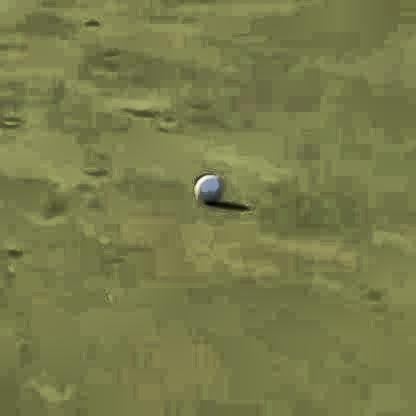golfball: (190, 166, 223, 203)
